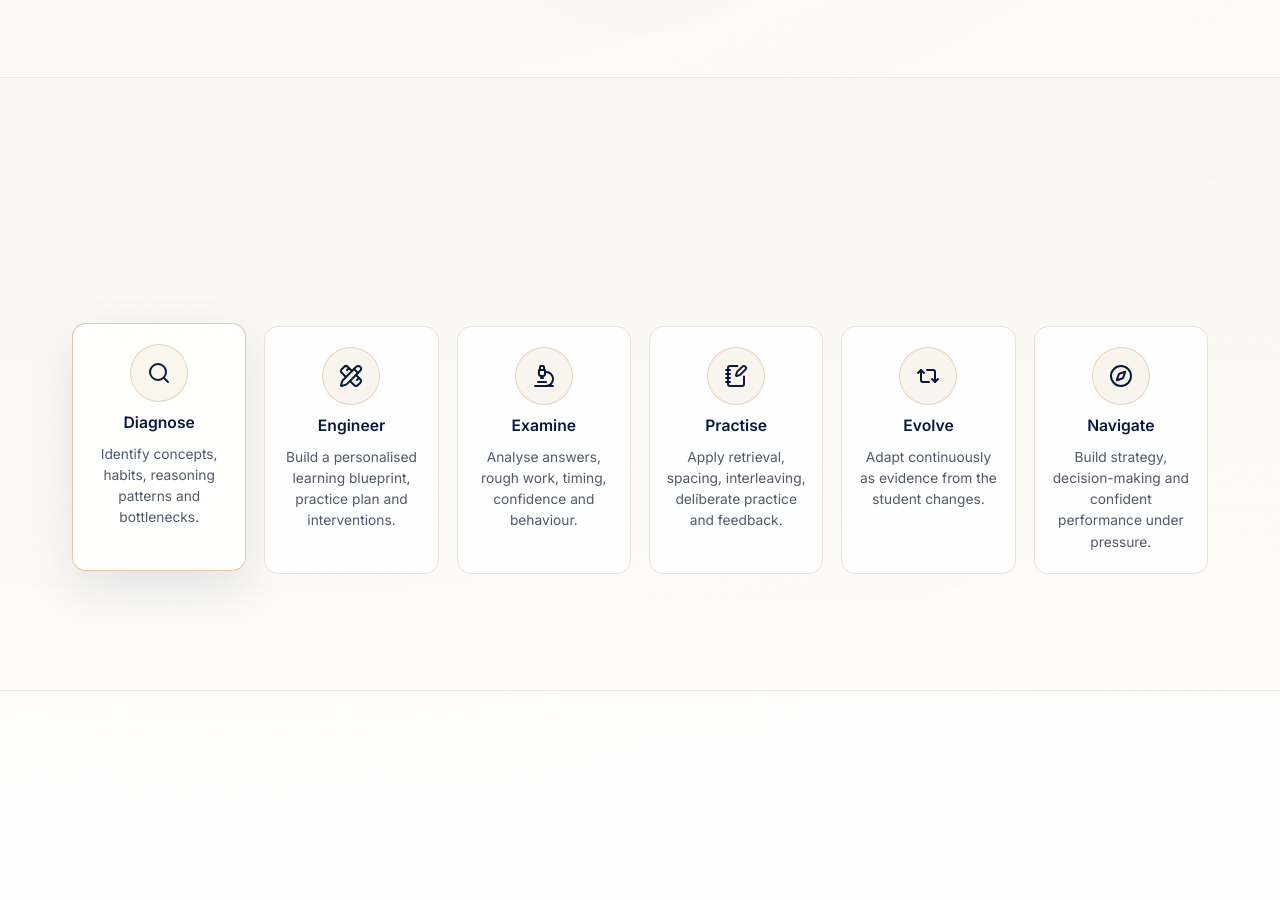
it: Navichi page › updates the active DEEPEN card on keyboard focus
The width and height of the screenshot is (1280, 900).
(page scrolled)
Focus the button "Engineer" at (351,450), box [264,326,439,574]
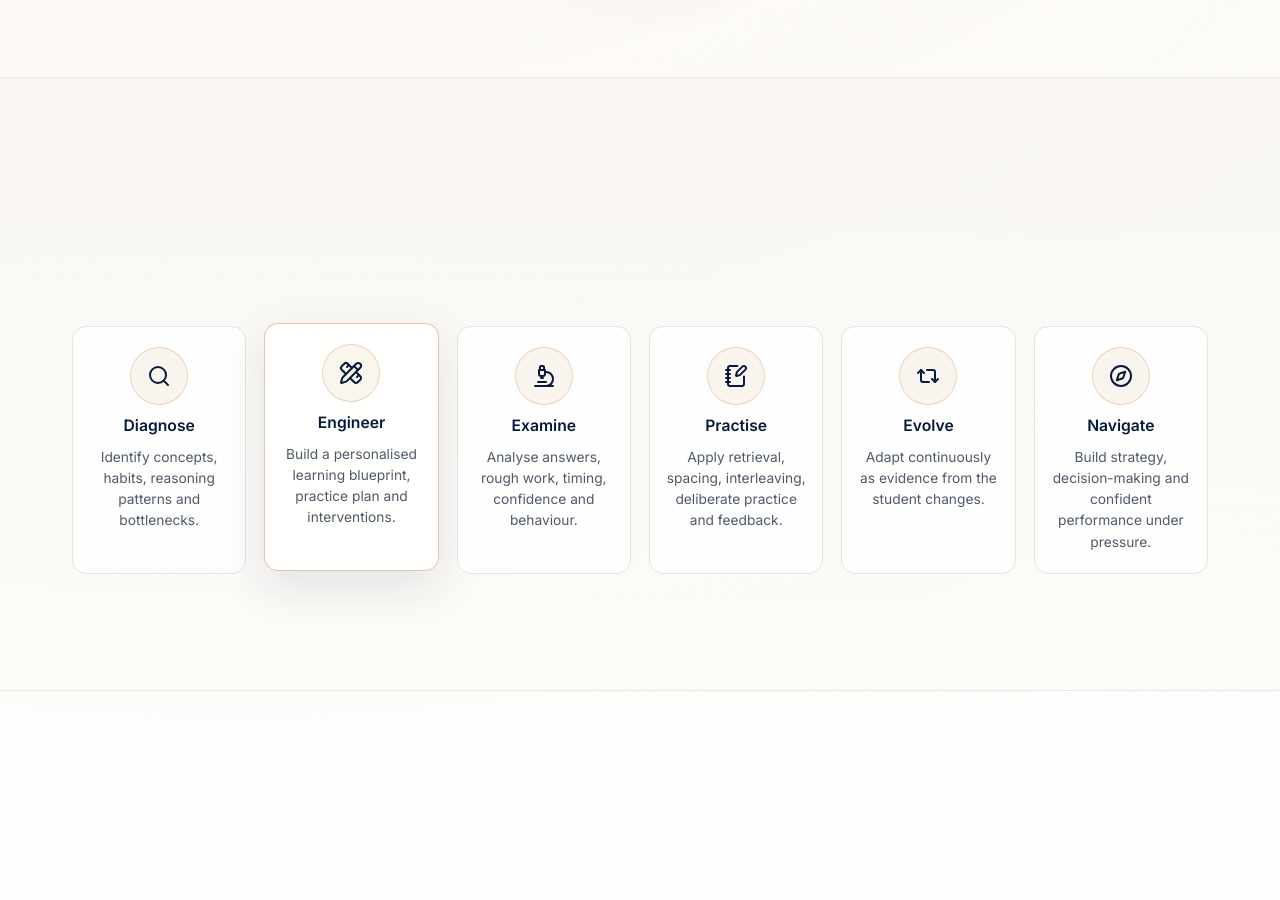
Expected: the button "Engineer" is expanded, [264,323,439,571]
